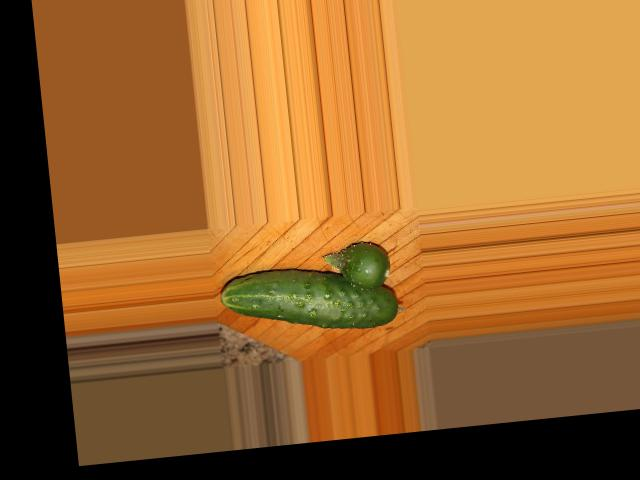cucumber: (218, 257, 400, 342)
